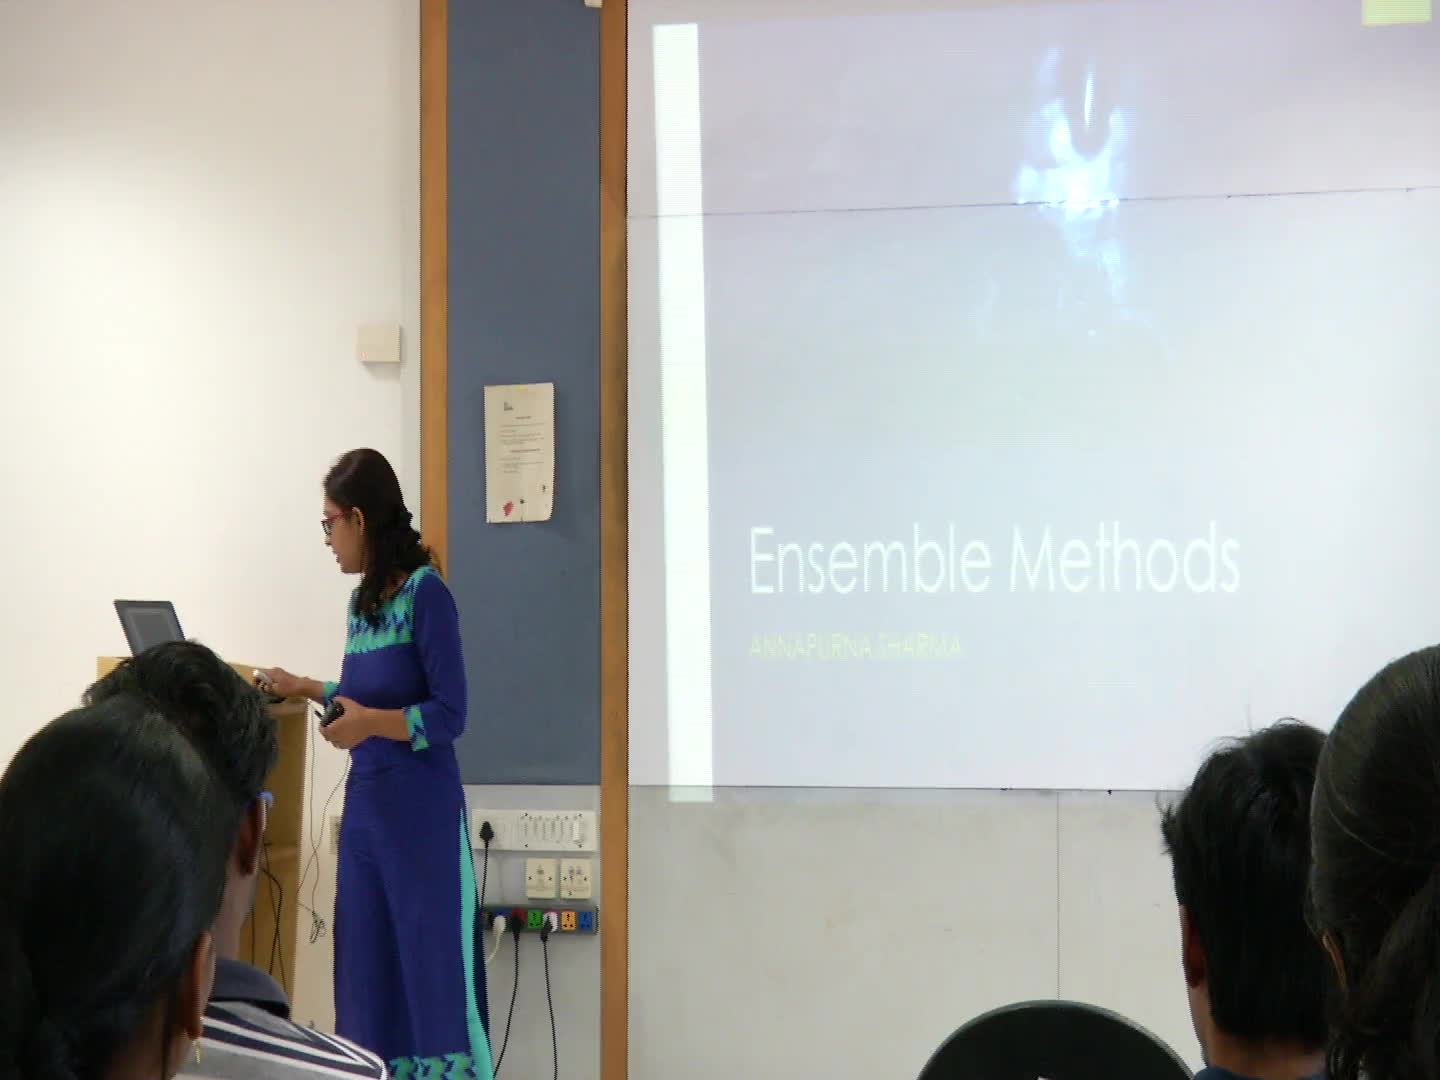slide: (653, 1, 1440, 800)
